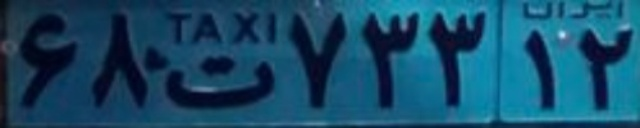1: (518, 28, 559, 109)
2: (577, 25, 631, 110)
3: (360, 11, 423, 110), (428, 10, 487, 108)
6: (15, 12, 78, 109)
7: (288, 12, 348, 108)
8: (85, 11, 148, 109)
te: (160, 53, 278, 109)
